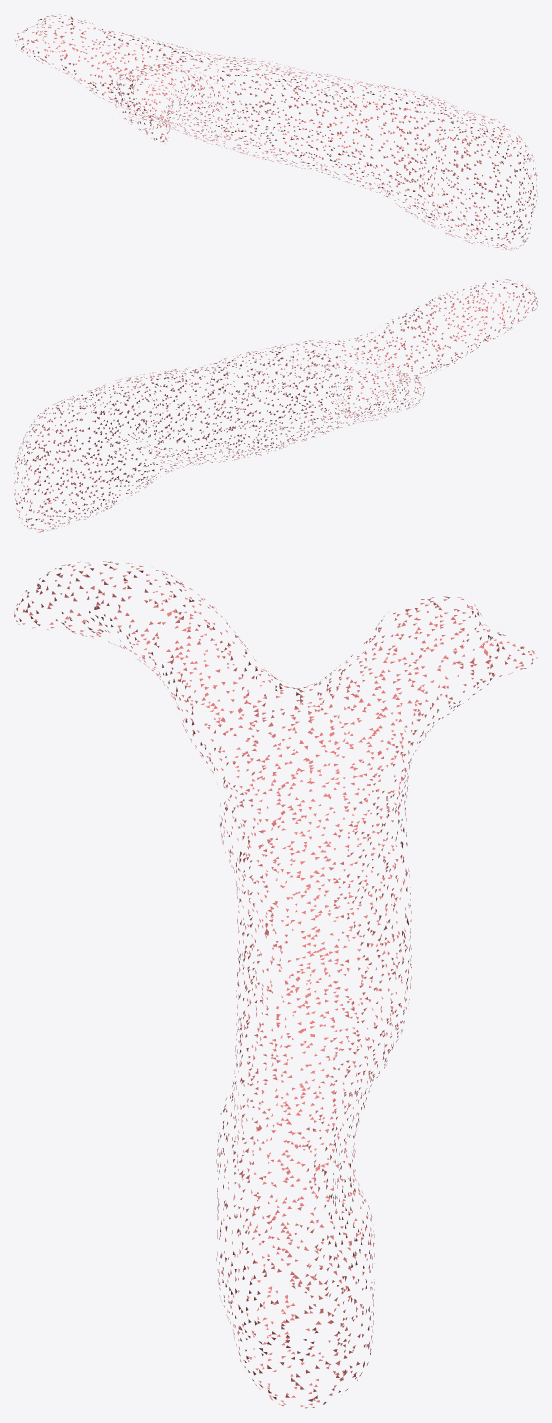
File: morph_000.glb
3 views of the same model, one above another, from view 1: azimuth 30°, elevation 25°; view 2: azimuth 150°, elevation 25°; view 3: azimuth 270°, elevation 25° (orthographic). The views are drawn at different scales.
Bounding box in the file's own units: 136 × 87.72 × 81.82.
